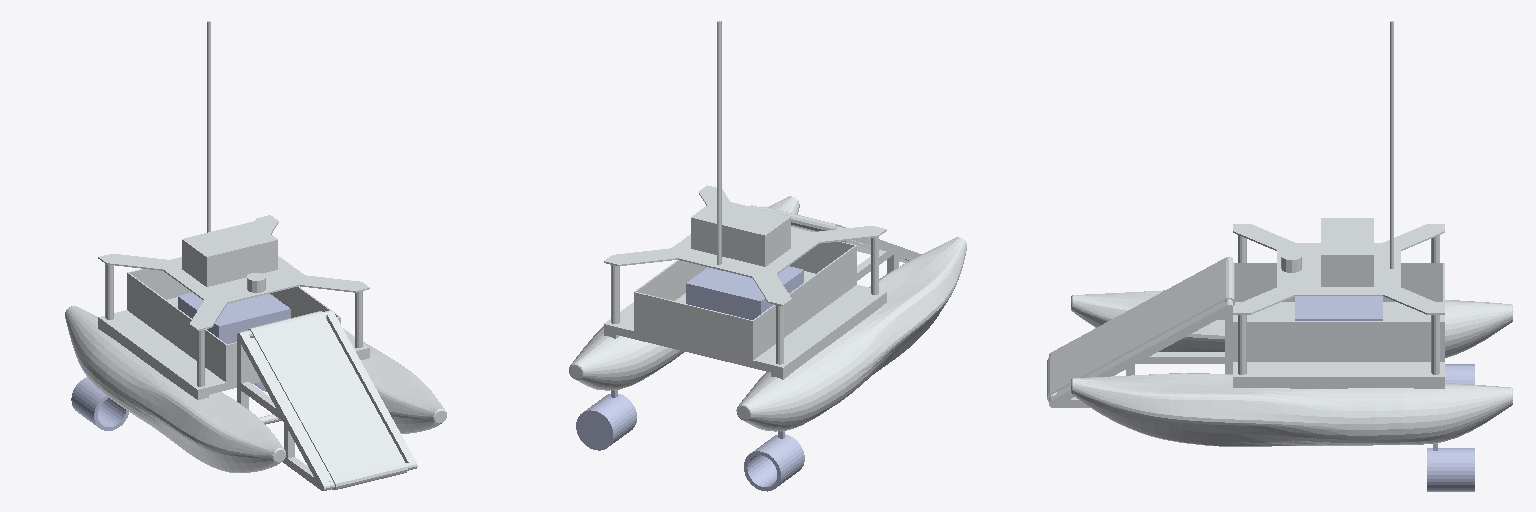
URDF robot description (catamaran_full):
<?xml version="1.0" ?>
<!-- =================================================================================== -->
<!-- |    This document was autogenerated by xacro from catamaran_full.urdf.xacro      | -->
<!-- |    EDITING THIS FILE BY HAND IS NOT RECOMMENDED                                 | -->
<!-- =================================================================================== -->
<robot name="catamaran_full">
  <link name="base_footprint"/>
  <joint name="footprint_to_base_link" type="fixed">
    <parent link="base_footprint"/>
    <child link="base_link"/>
    <origin rpy="0 0 0" xyz="0 0 0"/>
  </joint>
  <link name="base_link">
    <inertial>
      <origin rpy="0 0 0" xyz="-0.00013756 0.0095289 0.20694"/>
      <mass value="60.344"/>
      <inertia ixx="18.966" ixy="-0.00061837" ixz="0.0021946" iyy="21.505" iyz="-0.1324" izz="3.9171"/>
    </inertial>
    <visual>
      <origin rpy="0 0 0" xyz="0 0 0"/>
      <geometry>
        <mesh filename="package://catamaran/meshes/base_link.STL"/>
      </geometry>
      <material name="">
        <color rgba="0.89804 0.91765 0.92941 1"/>
      </material>
    </visual>
    <collision>
      <origin rpy="0 0 0" xyz="0 0 0"/>
      <geometry>
        <mesh filename="package://catamaran/meshes/base_link.STL"/>
      </geometry>
    </collision>
  </link>
  <link name="r_thruster">
    <inertial>
      <origin rpy="0 0 0" xyz="0 0.00044369 0.13724"/>
      <mass value="0"/>
      <inertia ixx="0" ixy="0" ixz="0" iyy="0" iyz="0" izz="0"/>
    </inertial>
    <visual>
      <origin rpy="0 0 0" xyz="0 0 0"/>
      <geometry>
        <mesh filename="package://catamaran/meshes/r_thruster.STL"/>
      </geometry>
      <material name="">
        <color rgba="0.79216 0.81961 0.93333 1"/>
      </material>
    </visual>
    <collision>
      <origin rpy="0 0 0" xyz="0 0 0"/>
      <geometry>
        <mesh filename="package://catamaran/meshes/r_thruster.STL"/>
      </geometry>
    </collision>
  </link>
  <joint name="base_to_r_thruster" type="fixed">
    <origin rpy="1.5708 0 3.1416" xyz="-0.56166 0.43963 -0.45538"/>
    <parent link="base_link"/>
    <child link="r_thruster"/>
    <axis xyz="0 0 0"/>
  </joint>
  <link name="l_thruster">
    <inertial>
      <origin rpy="0 0 0" xyz="0 0.00044369 0.13724"/>
      <mass value="0"/>
      <inertia ixx="0" ixy="0" ixz="0" iyy="0" iyz="0" izz="0"/>
    </inertial>
    <visual>
      <origin rpy="0 0 0" xyz="0 0 0"/>
      <geometry>
        <mesh filename="package://catamaran/meshes/l_thruster.STL"/>
      </geometry>
      <material name="">
        <color rgba="0.79216 0.81961 0.93333 1"/>
      </material>
    </visual>
    <collision>
      <origin rpy="0 0 0" xyz="0 0 0"/>
      <geometry>
        <mesh filename="package://catamaran/meshes/l_thruster.STL"/>
      </geometry>
    </collision>
  </link>
  <joint name="base_to_l_thruster" type="fixed">
    <origin rpy="1.5708 0 3.1416" xyz="0.55834 0.43963 -0.45538"/>
    <parent link="base_link"/>
    <child link="l_thruster"/>
    <axis xyz="0 0 0"/>
  </joint>
  <link name="mount">
    <inertial>
      <origin rpy="0 0 0" xyz="3.4694E-18 0.1 1.3878E-17"/>
      <mass value="0"/>
      <inertia ixx="0" ixy="0" ixz="0" iyy="0" iyz="0" izz="0"/>
    </inertial>
    <visual>
      <origin rpy="0 0 0" xyz="0 0 0"/>
      <geometry>
        <mesh filename="package://catamaran/meshes/mount.STL"/>
      </geometry>
      <material name="">
        <color rgba="0.79216 0.81961 0.93333 1"/>
      </material>
    </visual>
    <collision>
      <origin rpy="0 0 0" xyz="0 0 0"/>
      <geometry>
        <mesh filename="package://catamaran/meshes/mount.STL"/>
      </geometry>
    </collision>
  </link>
  <joint name="base_to_mount" type="fixed">
    <origin rpy="1.5708 0 0" xyz="0 -0.060366 0.14462"/>
    <parent link="base_link"/>
    <child link="mount"/>
    <axis xyz="0 0 0"/>
  </joint>
  <!-- INTEL REALSENSE D435 -->
  <!-- INTEL REALSENSE R200 -->
  <joint name="velodyne_base_mount_joint" type="fixed">
    <origin rpy="-1.570796 -1.570796 0" xyz="0 0.195 0"/>
    <parent link="mount"/>
    <child link="velodyne_base_link"/>
  </joint>
  <link name="velodyne_base_link">
    <inertial>
      <mass value="0.83"/>
      <origin xyz="0 0 0.03585"/>
      <inertia ixx="0.000908059425" ixy="0" ixz="0" iyy="0.000908059425" iyz="0" izz="0.0011049624"/>
    </inertial>
    <visual>
      <geometry>
        <mesh filename="package://velodyne_description/meshes/VLP16_base_1.dae"/>
      </geometry>
    </visual>
    <visual>
      <geometry>
        <mesh filename="package://velodyne_description/meshes/VLP16_base_2.dae"/>
      </geometry>
    </visual>
    <collision>
      <origin rpy="0 0 0" xyz="0 0 0.03585"/>
      <geometry>
        <cylinder length="0.0717" radius="0.0516"/>
      </geometry>
    </collision>
  </link>
  <joint name="velodyne_base_scan_joint" type="fixed">
    <origin rpy="0 0 0" xyz="0 0 0.0377"/>
    <parent link="velodyne_base_link"/>
    <child link="velodyne"/>
  </joint>
  <link name="velodyne">
    <inertial>
      <mass value="0.01"/>
      <origin xyz="0 0 0"/>
      <inertia ixx="1e-7" ixy="0" ixz="0" iyy="1e-7" iyz="0" izz="1e-7"/>
    </inertial>
    <visual>
      <origin xyz="0 0 -0.0377"/>
      <geometry>
        <mesh filename="package://velodyne_description/meshes/VLP16_scan.dae"/>
      </geometry>
    </visual>
  </link>
  <!-- Gazebo requires the velodyne_gazebo_plugins package -->
  <gazebo reference="velodyne">
    <sensor name="velodyne-VLP16" type="gpu_ray">
      <pose>0 0 0 0 0 0</pose>
      <visualize>false</visualize>
      <update_rate>10</update_rate>
      <ray>
        <scan>
          <horizontal>
            <samples>440</samples>
            <resolution>1</resolution>
            <min_angle>-3.141592653589793</min_angle>
            <max_angle>3.141592653589793</max_angle>
          </horizontal>
          <vertical>
            <samples>16</samples>
            <resolution>1</resolution>
            <min_angle>-0.2617993877991494</min_angle>
            <max_angle> 0.2617993877991494</max_angle>
          </vertical>
        </scan>
        <range>
          <min>0.3</min>
          <max>131.0</max>
          <resolution>0.001</resolution>
        </range>
        <noise>
          <type>gaussian</type>
          <mean>0.0</mean>
          <stddev>0.0</stddev>
        </noise>
      </ray>
      <plugin filename="libgazebo_ros_velodyne_gpu_laser.so" name="gazebo_ros_laser_controller">
        <topicName>/velodyne_points</topicName>
        <frameName>velodyne</frameName>
        <min_range>0.9</min_range>
        <max_range>130.0</max_range>
        <gaussianNoise>0.008</gaussianNoise>
      </plugin>
    </sensor>
  </gazebo>
  <!-- camera body, with origin at bottom screw mount -->
  <joint name="d435_joint" type="fixed">
    <origin rpy="0 -1.570796 -1.570796" xyz="0 0.1 0.28"/>
    <parent link="mount"/>
    <child link="d435_bottom_screw_frame"/>
  </joint>
  <link name="d435_bottom_screw_frame"/>
  <joint name="d435_link_joint" type="fixed">
    <origin rpy="0 0 0" xyz="0 0.0175 0.0125"/>
    <parent link="d435_bottom_screw_frame"/>
    <child link="d435_link"/>
  </joint>
  <link name="d435_link">
    <visual>
      <origin rpy="1.5707963267948966 0 1.5707963267948966" xyz="0.0149 -0.0175 0"/>
      <geometry>
        <mesh filename="package://realsense_ros_gazebo/meshes/realsense_d435.stl"/>
      </geometry>
    </visual>
    <collision>
      <origin rpy="0 0 0" xyz="0 -0.0175 0"/>
      <geometry>
        <box size="0.02505 0.09 0.025"/>
      </geometry>
    </collision>
    <inertial>
      <mass value="0.564"/>
      <origin rpy="0 0 0" xyz="0 -0.0175 0"/>
      <inertia ixx="0.000410075" ixy="0" ixz="0" iyy="5.8867617499999996e-05" iyz="0" izz="5.8867617499999996e-05"/>
    </inertial>
  </link>
  <!-- camera depth joints and links -->
  <joint name="d435_depth_joint" type="fixed">
    <origin rpy="0 0 0" xyz="0 0 0"/>
    <parent link="d435_link"/>
    <child link="d435_depth_frame"/>
  </joint>
  <link name="d435_depth_frame"/>
  <joint name="d435_depth_optical_joint" type="fixed">
    <origin rpy="-1.5707963267948966 0 -1.5707963267948966" xyz="0 0 0"/>
    <parent link="d435_depth_frame"/>
    <child link="d435_depth_optical_frame"/>
  </joint>
  <link name="d435_depth_optical_frame"/>
  <!-- camera left IR joints and links -->
  <joint name="d435_left_ir_joint" type="fixed">
    <origin rpy="0 0 0" xyz="0 0.0 0"/>
    <parent link="d435_depth_frame"/>
    <child link="d435_left_ir_frame"/>
  </joint>
  <link name="d435_left_ir_frame"/>
  <joint name="d435_left_ir_optical_joint" type="fixed">
    <origin rpy="-1.5707963267948966 0 -1.5707963267948966" xyz="0 0 0"/>
    <parent link="d435_left_ir_frame"/>
    <child link="d435_left_ir_optical_frame"/>
  </joint>
  <link name="d435_left_ir_optical_frame"/>
  <!-- camera right IR joints and links -->
  <joint name="d435_right_ir_joint" type="fixed">
    <origin rpy="0 0 0" xyz="0 -0.05 0"/>
    <parent link="d435_depth_frame"/>
    <child link="d435_right_ir_frame"/>
  </joint>
  <link name="d435_right_ir_frame"/>
  <joint name="d435_right_ir_optical_joint" type="fixed">
    <origin rpy="-1.5707963267948966 0 -1.5707963267948966" xyz="0 0 0"/>
    <parent link="d435_right_ir_frame"/>
    <child link="d435_right_ir_optical_frame"/>
  </joint>
  <link name="d435_right_ir_optical_frame"/>
  <!-- camera color joints and links -->
  <joint name="d435_color_joint" type="fixed">
    <origin rpy="0 0 0" xyz="0 0.015 0"/>
    <parent link="d435_depth_frame"/>
    <child link="d435_color_frame"/>
  </joint>
  <link name="d435_color_frame"/>
  <joint name="d435_color_optical_joint" type="fixed">
    <origin rpy="-1.5707963267948966 0 -1.5707963267948966" xyz="0 0 0"/>
    <parent link="d435_color_frame"/>
    <child link="d435_color_optical_frame"/>
  </joint>
  <link name="d435_color_optical_frame"/>
  <!-- gazebo plugin -->
  <gazebo reference="d435_link">
    <self_collide>0</self_collide>
    <enable_wind>0</enable_wind>
    <kinematic>0</kinematic>
    <gravity>1</gravity>
    <mu2>1</mu2>
    <fdir1>0 0 0</fdir1>
    <kp>1e+13</kp>
    <kd>1</kd>
    <sensor name="d435_color" type="camera">
      <camera name="d435">
        <horizontal_fov>1.2112585008840648</horizontal_fov>
        <image>
          <width>640</width>
          <height>480</height>
          <format>RGB_INT8</format>
        </image>
        <clip>
          <near>0.1</near>
          <far>100</far>
        </clip>
        <noise>
          <type>gaussian</type>
          <mean>0.0</mean>
          <stddev>0.007</stddev>
        </noise>
      </camera>
      <always_on>1</always_on>
      <update_rate>30</update_rate>
      <visualize>1</visualize>
    </sensor>
    <sensor name="d435_ired1" type="camera">
      <camera name="d435">
        <horizontal_fov>1.4870205226991688</horizontal_fov>
        <image>
          <width>1280</width>
          <height>720</height>
          <format>L_INT8</format>
        </image>
        <clip>
          <near>0.1</near>
          <far>100</far>
        </clip>
        <noise>
          <type>gaussian</type>
          <mean>0.0</mean>
          <stddev>0.05</stddev>
        </noise>
      </camera>
      <always_on>1</always_on>
      <update_rate>90</update_rate>
      <visualize>0</visualize>
    </sensor>
    <sensor name="d435_ired2" type="camera">
      <camera name="d435">
        <horizontal_fov>1.4870205226991688</horizontal_fov>
        <image>
          <width>1280</width>
          <height>720</height>
          <format>L_INT8</format>
        </image>
        <clip>
          <near>0.1</near>
          <far>100</far>
        </clip>
        <noise>
          <type>gaussian</type>
          <mean>0.0</mean>
          <stddev>0.05</stddev>
        </noise>
      </camera>
      <always_on>1</always_on>
      <update_rate>90</update_rate>
      <visualize>0</visualize>
    </sensor>
    <sensor name="d435_depth" type="depth">
      <camera name="d435">
        <horizontal_fov>1.4870205226991688</horizontal_fov>
        <image>
          <width>1280</width>
          <height>720</height>
        </image>
        <clip>
          <near>0.1</near>
          <far>100</far>
        </clip>
        <noise>
          <type>gaussian</type>
          <mean>0.0</mean>
          <stddev>0.100</stddev>
        </noise>
      </camera>
      <always_on>1</always_on>
      <update_rate>90</update_rate>
      <visualize>0</visualize>
    </sensor>
  </gazebo>
  <gazebo>
    <plugin filename="librealsense_gazebo_plugin.so" name="d435">
      <prefix>d435_</prefix>
      <depthUpdateRate>10</depthUpdateRate>
      <colorUpdateRate>10</colorUpdateRate>
      <infraredUpdateRate>10</infraredUpdateRate>
      <depthTopicName>depth/image_raw</depthTopicName>
      <depthCameraInfoTopicName>depth/camera_info</depthCameraInfoTopicName>
      <colorTopicName>color/image_raw</colorTopicName>
      <colorCameraInfoTopicName>color/camera_info</colorCameraInfoTopicName>
      <infrared1TopicName>infra1/image_raw</infrared1TopicName>
      <infrared1CameraInfoTopicName>infra1/camera_info</infrared1CameraInfoTopicName>
      <infrared2TopicName>infra2/image_raw</infrared2TopicName>
      <infrared2CameraInfoTopicName>infra2/camera_info</infrared2CameraInfoTopicName>
      <colorOpticalframeName>d435_color_optical_frame</colorOpticalframeName>
      <depthOpticalframeName>d435_depth_optical_frame</depthOpticalframeName>
      <infrared1OpticalframeName>d435_infrared1_optical_frame</infrared1OpticalframeName>
      <infrared2OpticalframeName>d435_infrared2_optical_frame</infrared2OpticalframeName>
      <rangeMinDepth>0.2</rangeMinDepth>
      <rangeMaxDepth>10.0</rangeMaxDepth>
      <pointCloud>false</pointCloud>
      <pointCloudTopicName>depth/color/points</pointCloudTopicName>
      <pointCloudCutoff>0.25</pointCloudCutoff>
      <pointCloudCutoffMax>9.0</pointCloudCutoffMax>
    </plugin>
  </gazebo>
</robot>

--- Render facts (derived) ---
Views: 3 orthographic renders of the robot side by side, from view 1: azimuth 30°, elevation 25°; view 2: azimuth 150°, elevation 25°; view 3: azimuth 270°, elevation 25°.
Model catamaran_full with 17 links and 16 joints (16 fixed), rooted at base_footprint, posed all joints at 0.
Visible links, largest first — view 1: base_link, mount, r_thruster; view 2: base_link, mount, l_thruster, r_thruster; view 3: base_link, mount, l_thruster, r_thruster.
Link boxes in pixels (box(x1,y1,x2,y2)): base_link: box(65, 21, 446, 490); mount: box(178, 292, 290, 343); r_thruster: box(71, 377, 128, 430); base_link: box(569, 20, 966, 431); mount: box(686, 266, 803, 319); l_thruster: box(576, 390, 636, 450); r_thruster: box(744, 431, 804, 491); base_link: box(1047, 21, 1512, 446); mount: box(1295, 296, 1382, 320); l_thruster: box(1427, 444, 1474, 491); r_thruster: box(1445, 364, 1474, 384).
Bounding box of the posed robot: 1.57 × 2.65 × 2.67 m (x, y, z).
Meshes: 8 distinct files referenced, 4 mesh visuals loaded (4 binary STL); not drawn: 4 (reference not matched to a file when rendering).